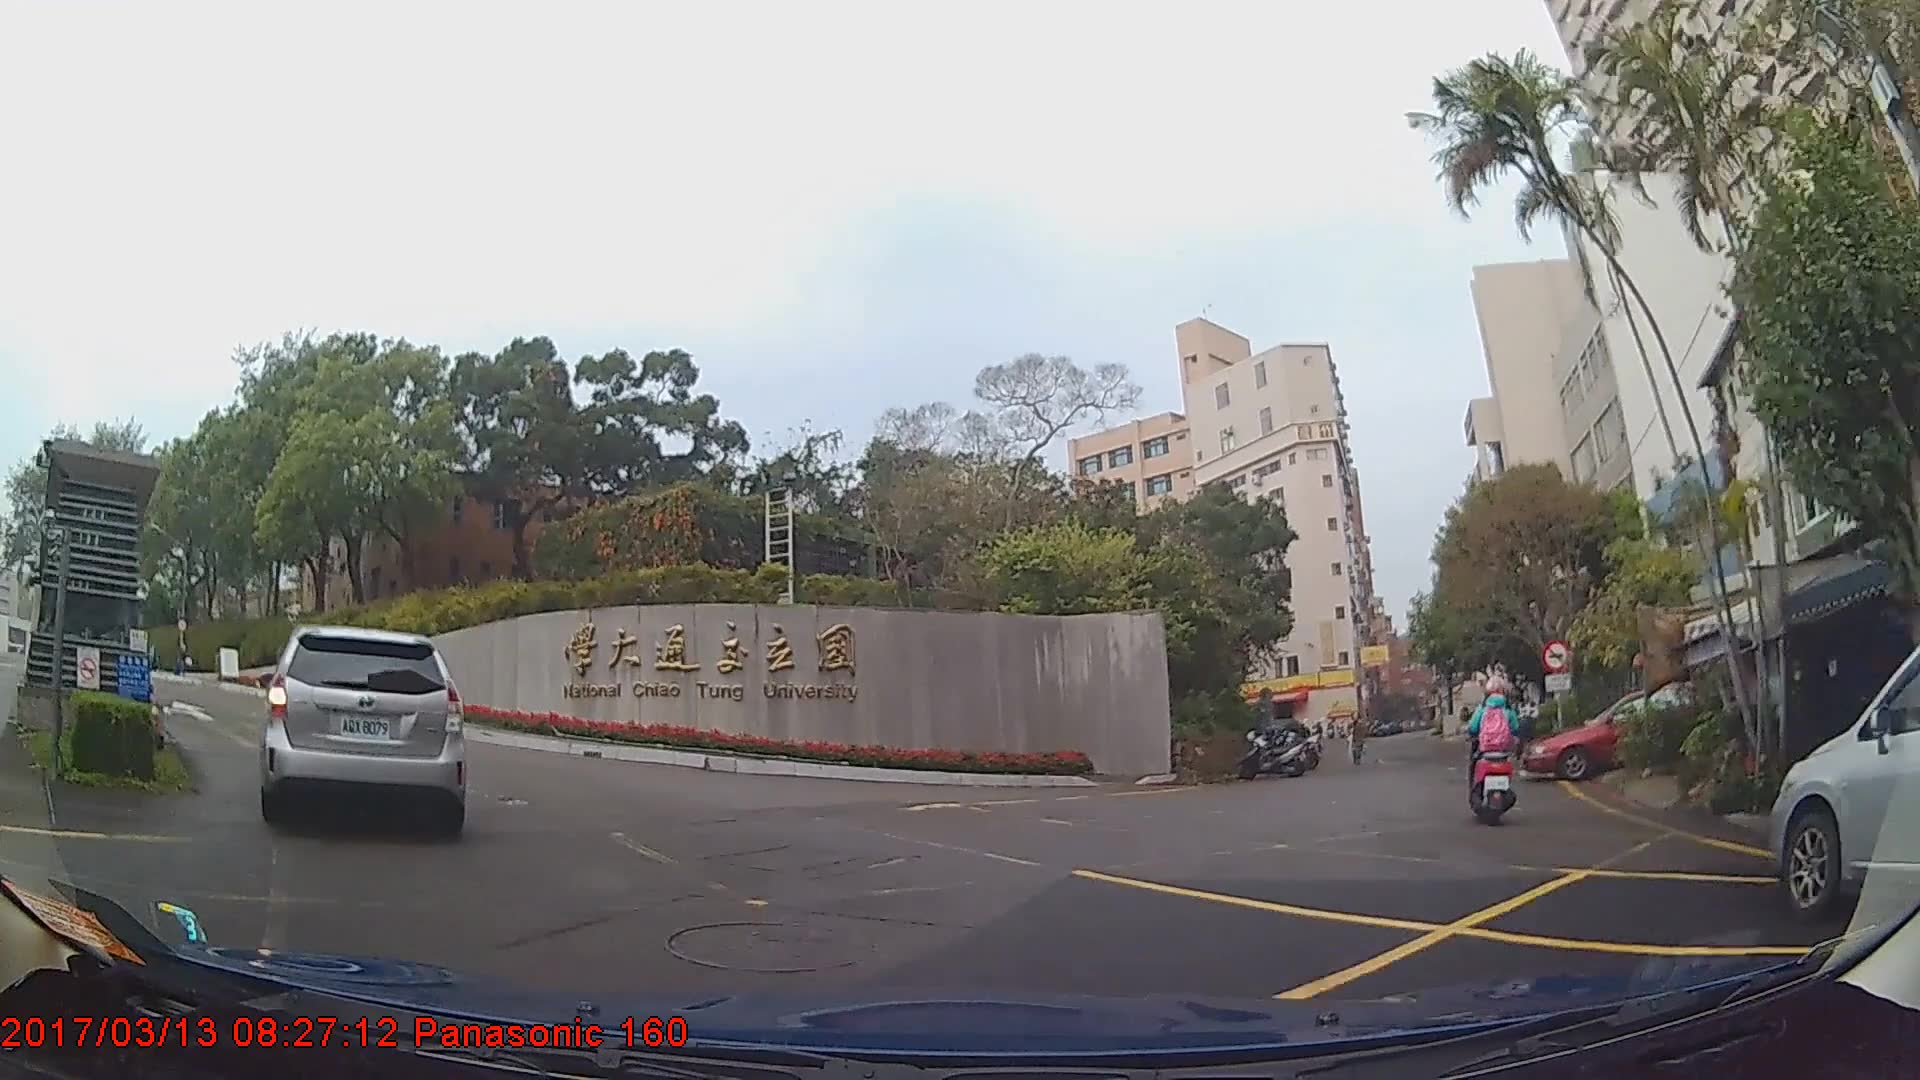pedestrian: (1347, 711, 1370, 768)
rider: (1466, 665, 1521, 823)
vehicle: (257, 624, 464, 837), (1767, 642, 1920, 916), (1524, 684, 1722, 780)
